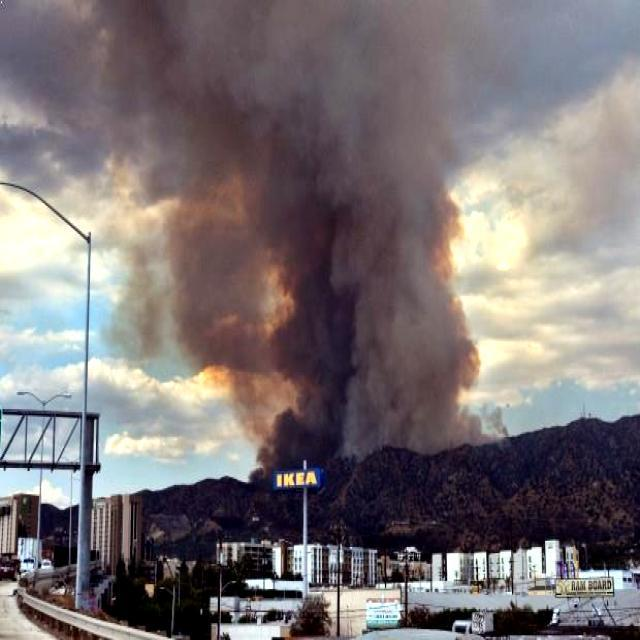Smoke: (112, 0, 476, 449)
